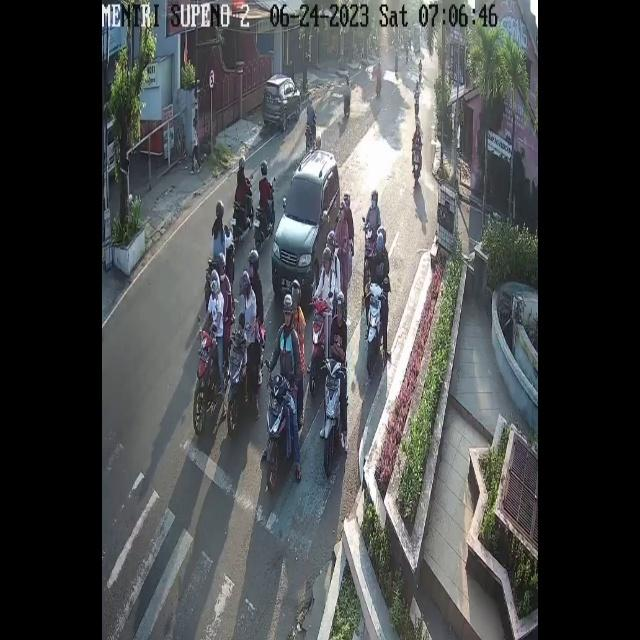bus: (192, 327, 231, 437), (226, 329, 266, 434), (264, 366, 294, 494), (321, 356, 343, 476), (204, 222, 234, 302), (310, 297, 327, 398), (366, 280, 383, 379), (254, 181, 274, 252), (234, 177, 254, 240), (304, 110, 320, 154), (411, 140, 422, 188), (364, 226, 375, 260), (343, 89, 352, 119), (414, 92, 422, 121)
motorcycle: (272, 149, 340, 299), (264, 74, 300, 133)
